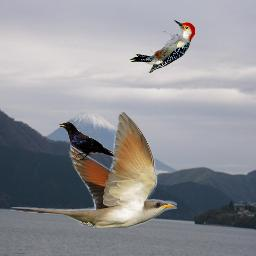Crow: (59, 122, 115, 161)
Cuckoo: (10, 112, 177, 228)
Woodpecker: (129, 20, 195, 74)
